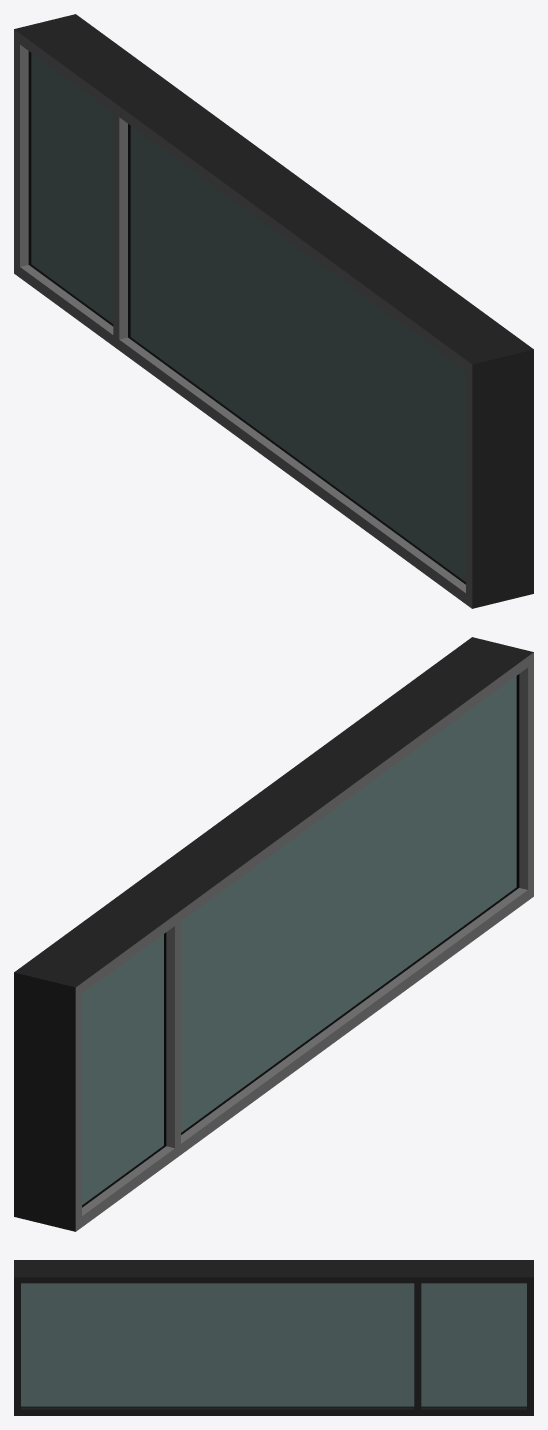
The model's file is window1.fbx.
3 renders of one model, top to bottom at view 1: azimuth 30°, elevation 25°; view 2: azimuth 150°, elevation 25°; view 3: azimuth 270°, elevation 25°, orthographic. The views are drawn at different scales.
Parts seen in each view (by area): view 1: window_big; view 2: window_big; view 3: window_big.
Part boxes in pixels (x1,y1,x2,y2): window_big: [14, 14, 533, 608]; window_big: [14, 637, 533, 1231]; window_big: [14, 1260, 533, 1415].
Size of the model in its own units: 41.56 by 157 by 533.
